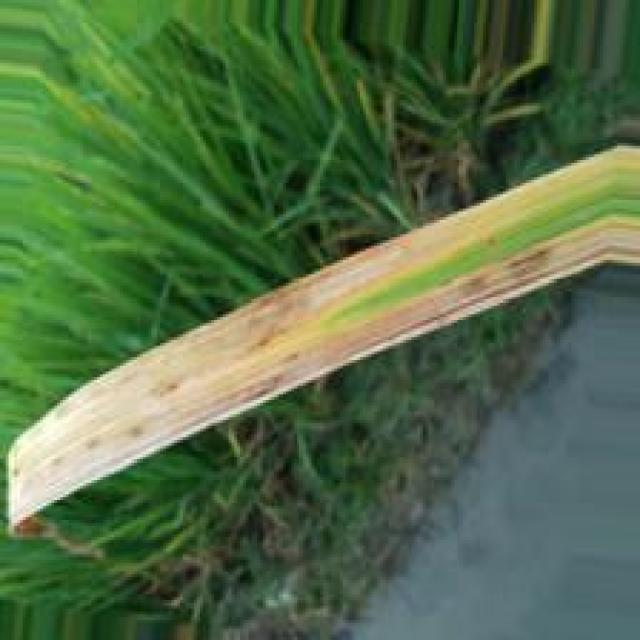Leaf_Scald: (9, 215, 637, 528)
